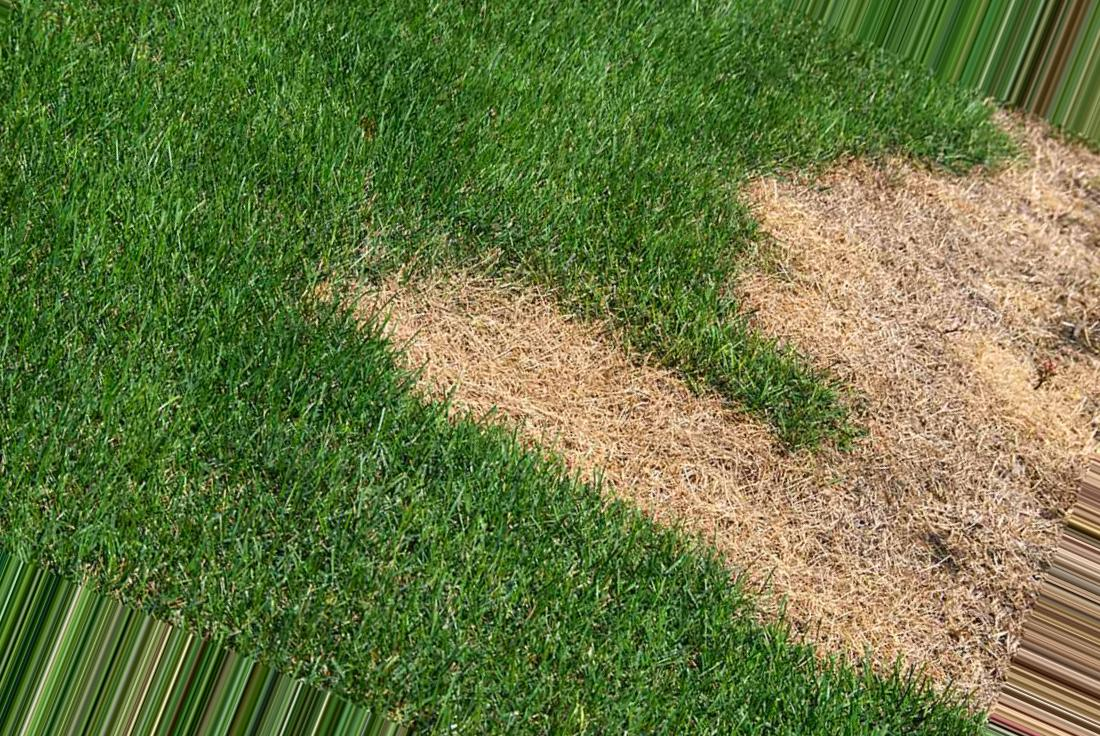patch: (401, 281, 719, 525), (777, 191, 1075, 407), (742, 447, 1001, 644)
